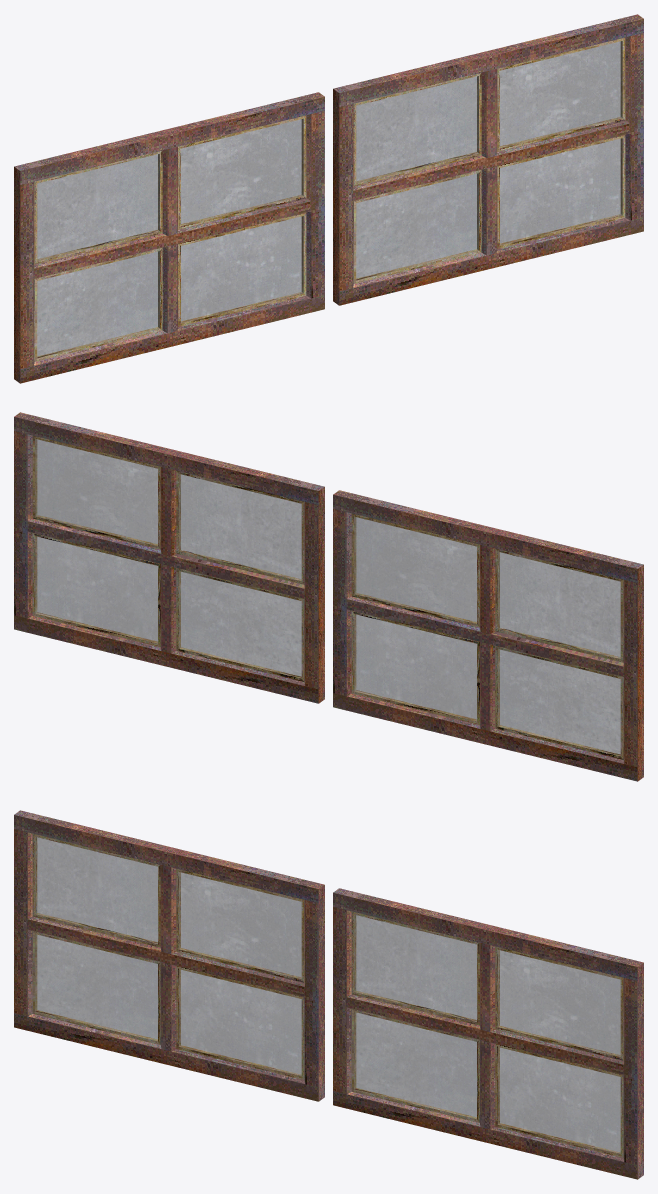
The model's file is window-wide-top.glb.
3 views of the same model, one above another, from view 1: azimuth 30°, elevation 25°; view 2: azimuth 150°, elevation 25°; view 3: azimuth 330°, elevation 25° (orthographic).
Parts seen in each view (by area): view 1: window-wide-top.001; view 2: window-wide-top.001; view 3: window-wide-top.001.
Part boxes in pixels (box(x1,y1,x2,y2)): window-wide-top.001: box(14, 14, 643, 383); window-wide-top.001: box(14, 412, 643, 781); window-wide-top.001: box(14, 810, 643, 1179).
Size of the model in its own units: 1.74 by 0.5682 by 0.0299.
Materials: 2 (2 with a texture image).
